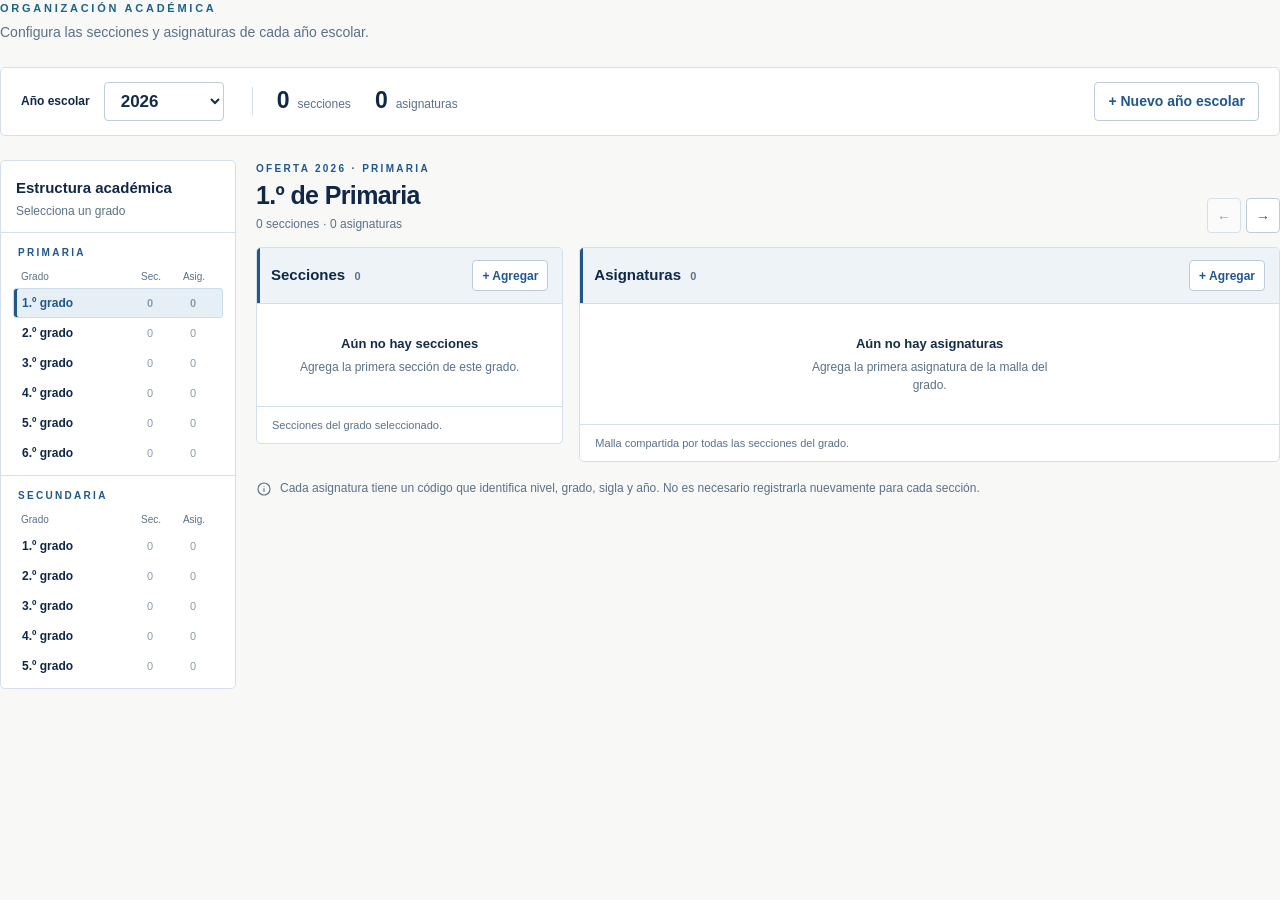
Oferta académica ERP Web › mantiene abierto el formulario ante un rechazo del servidor y permite cancelar
The width and height of the screenshot is (1280, 900).
Step 1. Select "2027" in the dropdown labelled "Año escolar" → coordinates (164, 101), box [104,82,224,120]
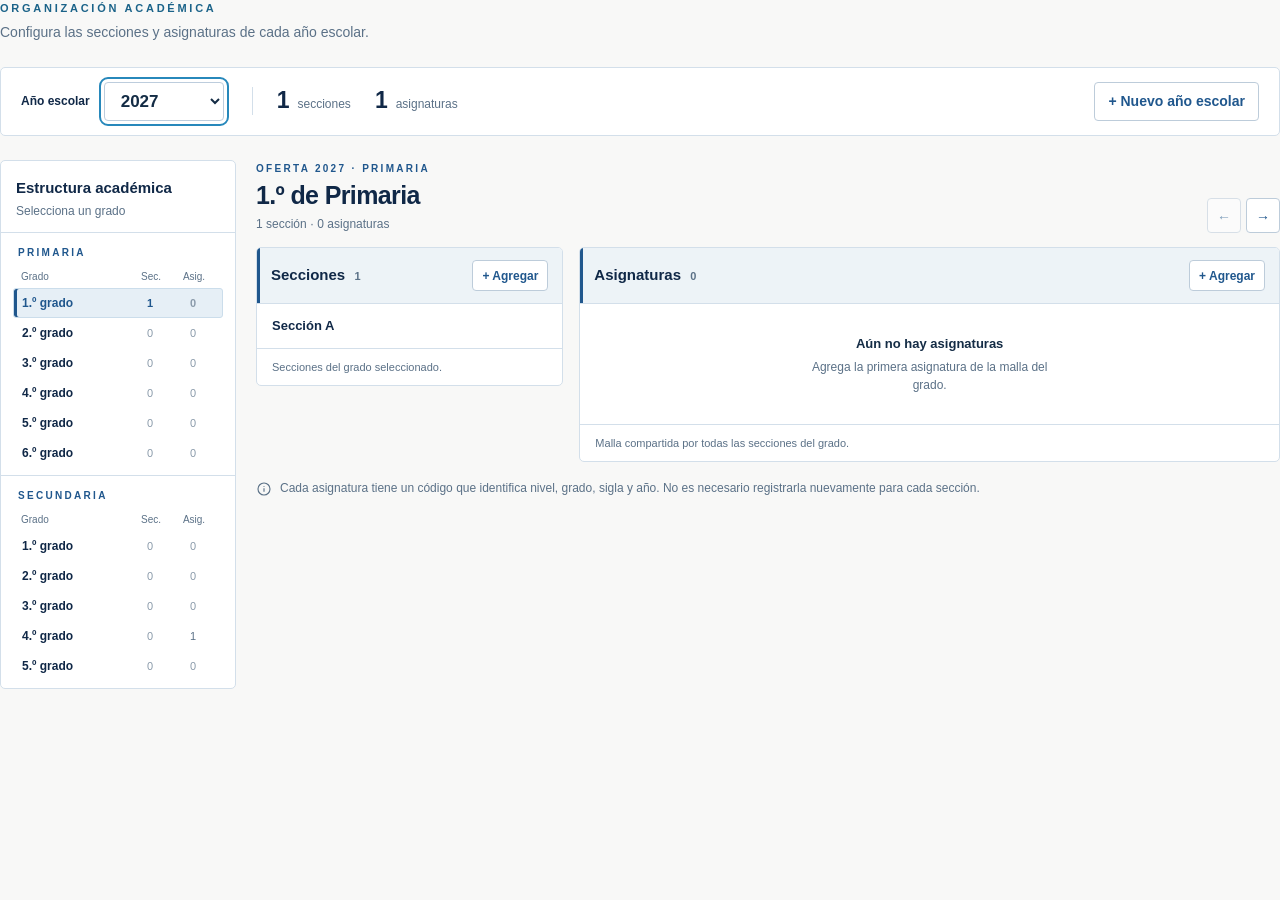
Check: the list item "Sección A" is shown, box [272,318,334,333]
Step 2. Click the button with aria-label "Agregar sección" → coordinates (510, 276), box [472,260,548,291]
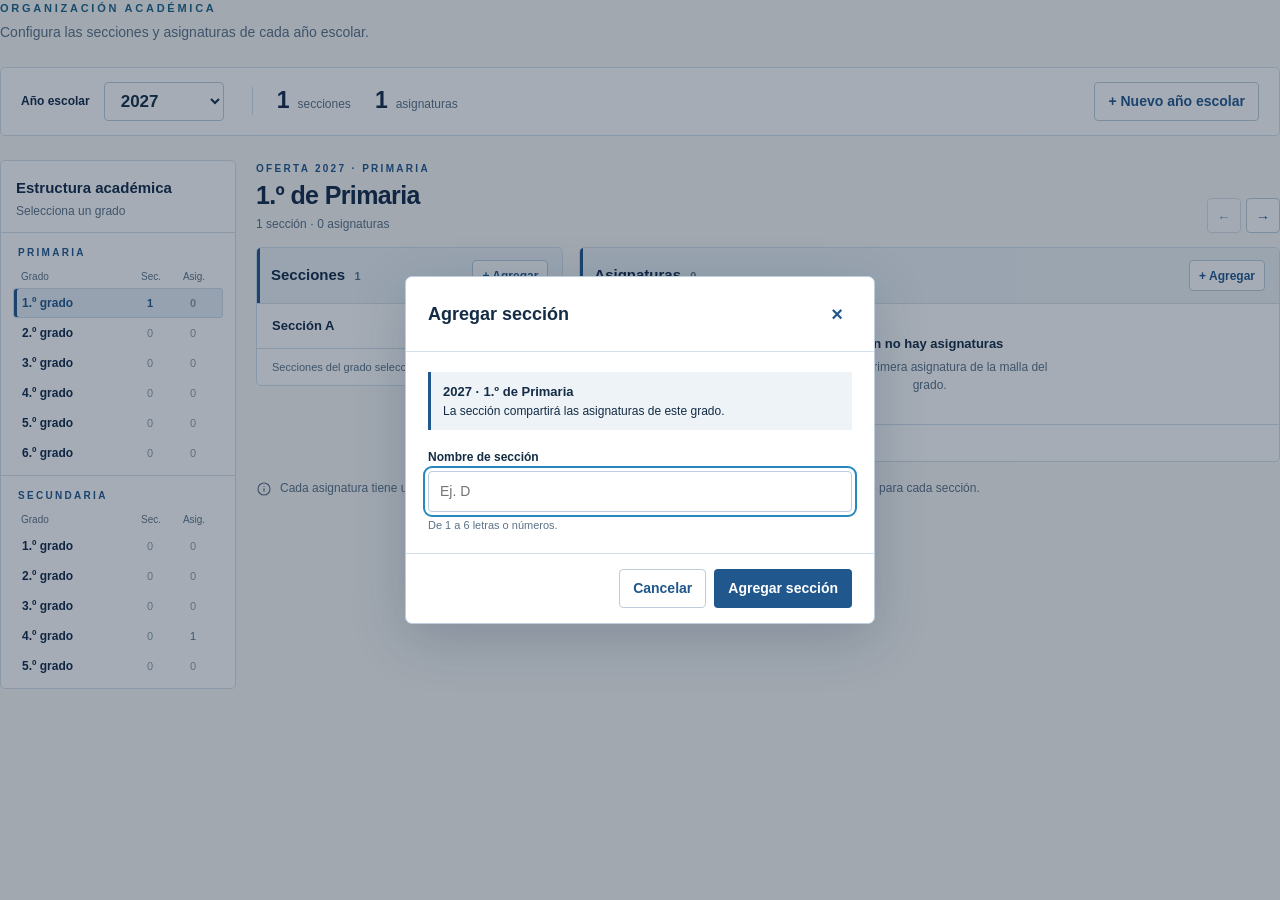
Step 3. Type "B" into the field labelled "Nombre de sección" → coordinates (640, 491), box [428,470,852,512]
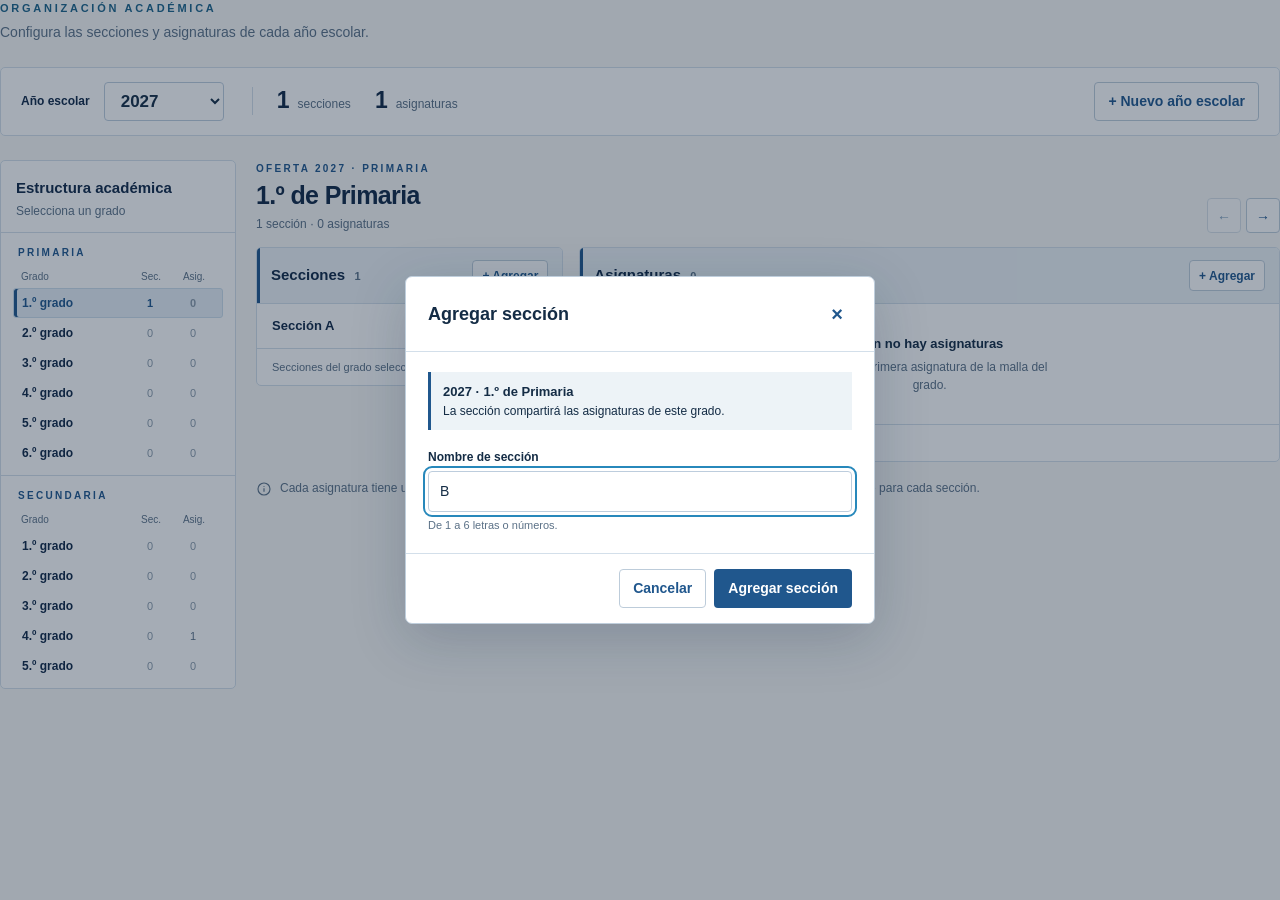
Step 4. Click the button "Agregar sección" → coordinates (783, 588), box [714,569,852,608]
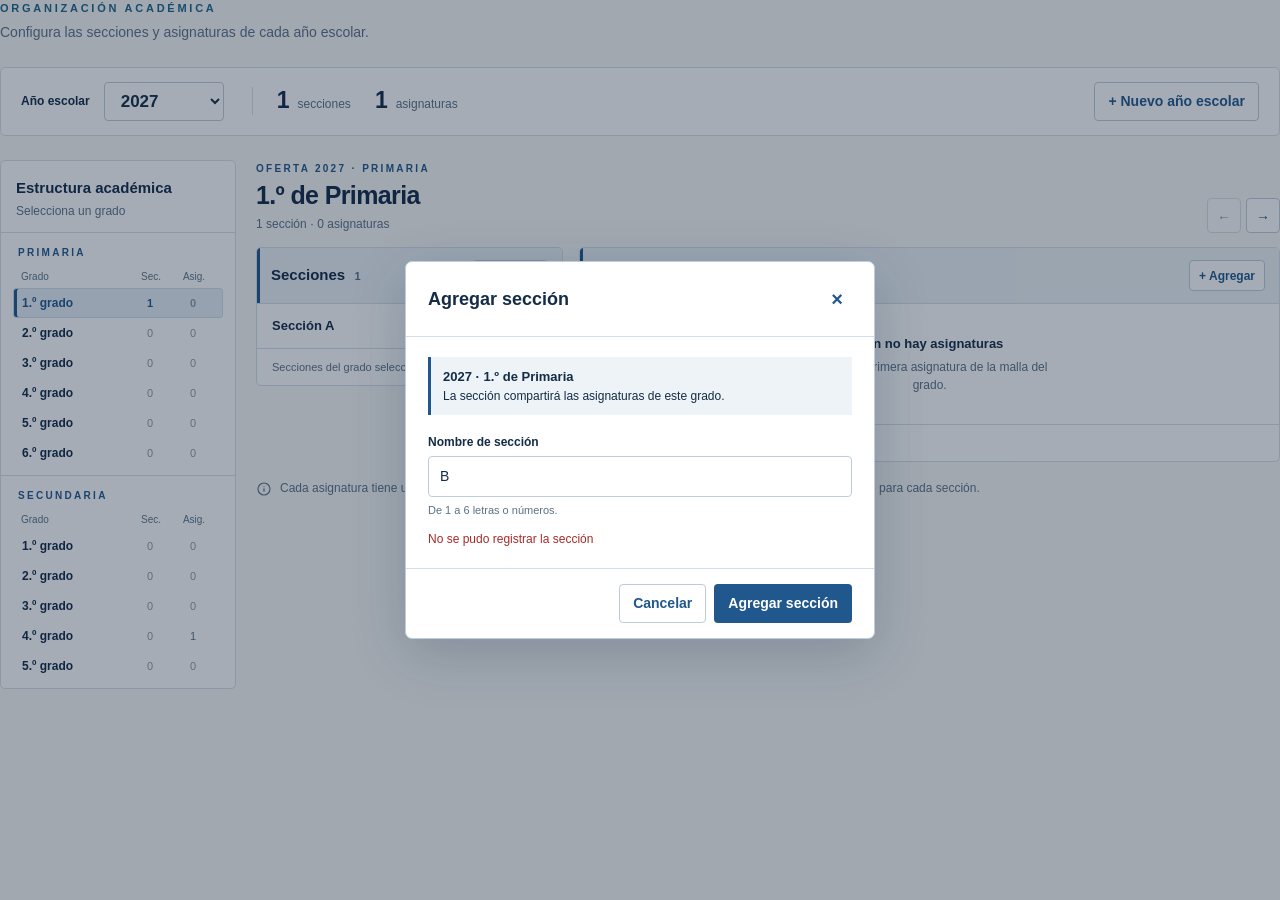
Check: the message shows "No se pudo", box [428,532,593,546]
Step 5. Click the button "Cancelar" → coordinates (663, 604), box [619,584,706,623]
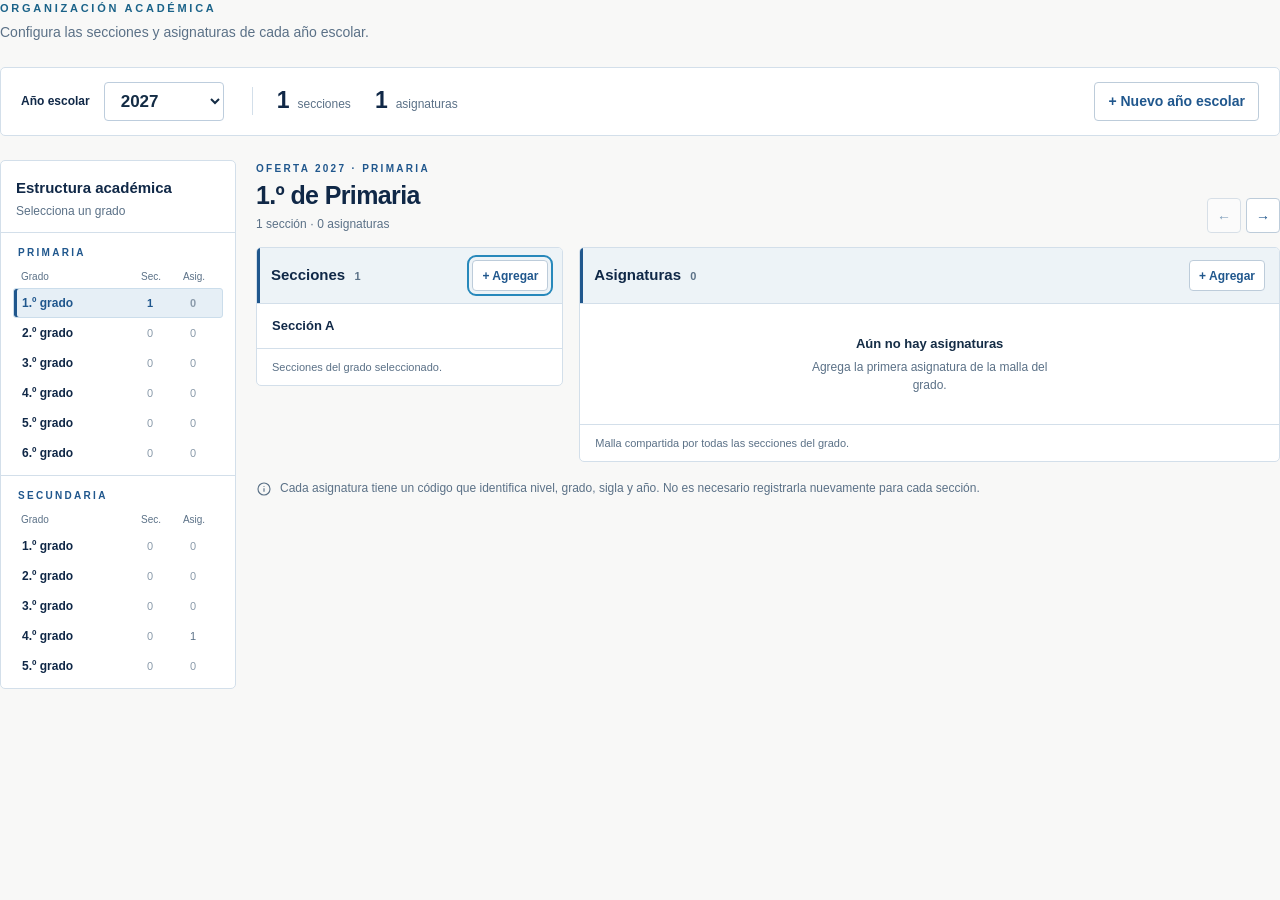
Check: the dialog is gone
